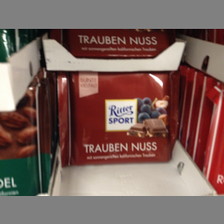chocolate: (58, 72, 180, 167)
